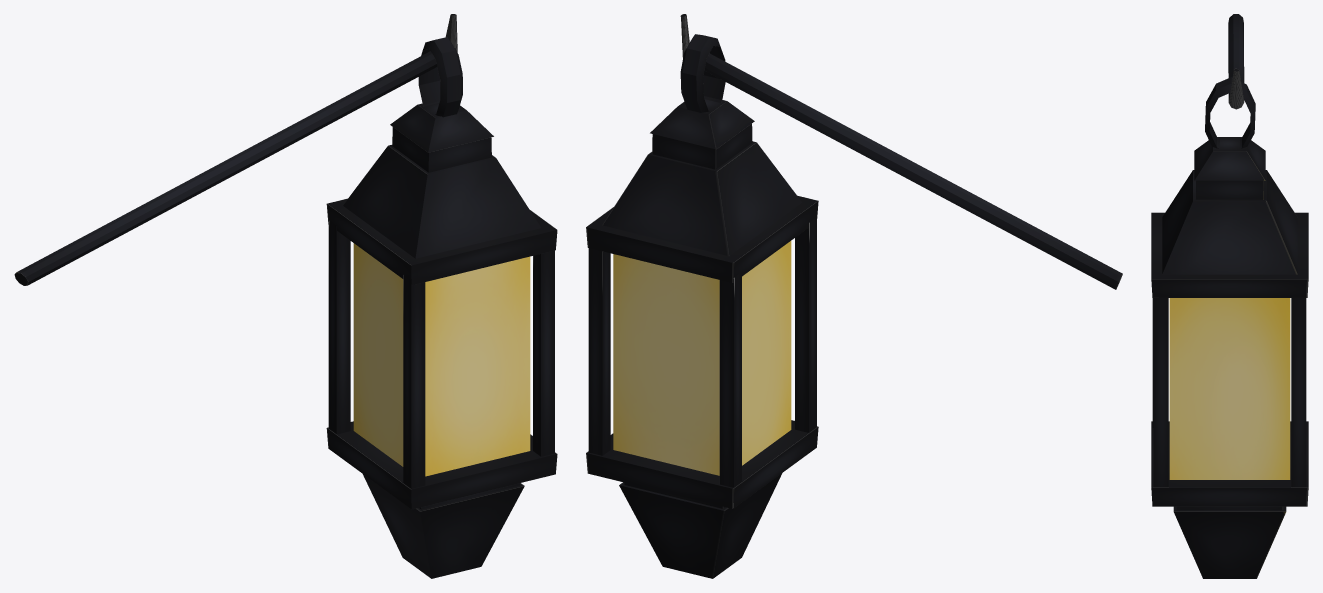
Rendered from LanternAssetShortStick.fbx.
3 views of the same model, side by side, from view 1: azimuth 30°, elevation 25°; view 2: azimuth 150°, elevation 25°; view 3: azimuth 270°, elevation 25° (orthographic). The views are drawn at different scales.
Parts seen in each view (by area): view 1: polySurface13; view 2: polySurface13; view 3: polySurface13.
Part boxes in pixels (x1,y1,x2,y2): polySurface13: (14, 14, 557, 578); polySurface13: (586, 14, 1122, 578); polySurface13: (1151, 14, 1308, 578).
Bounding box in the file's own units: 13.38 × 14.03 × 3.97.
Materials: 1 (1 with a texture image).
